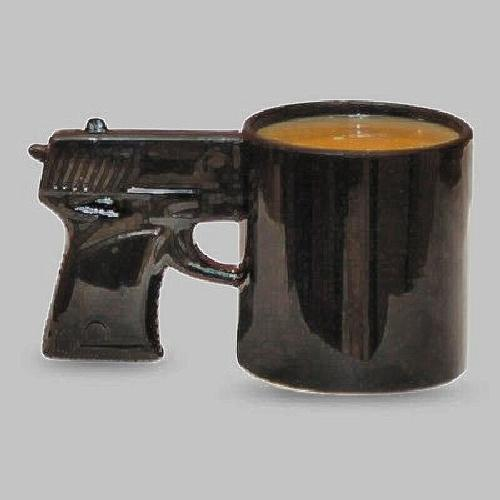mug: (44, 117, 484, 400)
